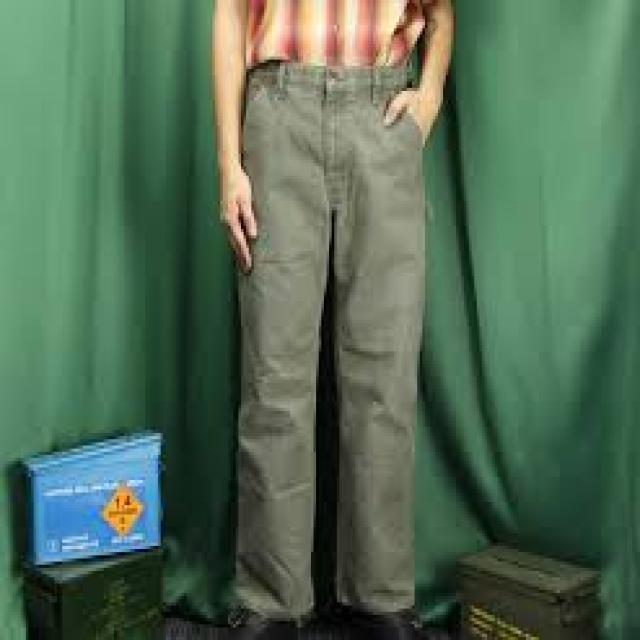pants: (233, 59, 428, 616)
